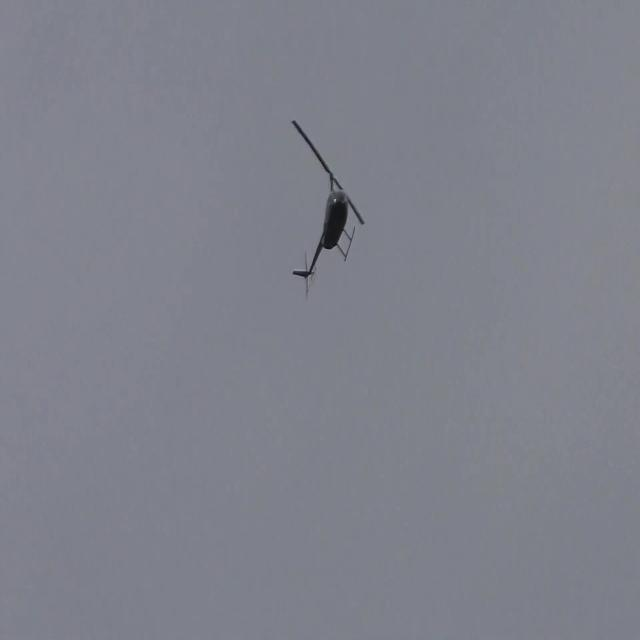CIV_HELO: (291, 172, 356, 278)
